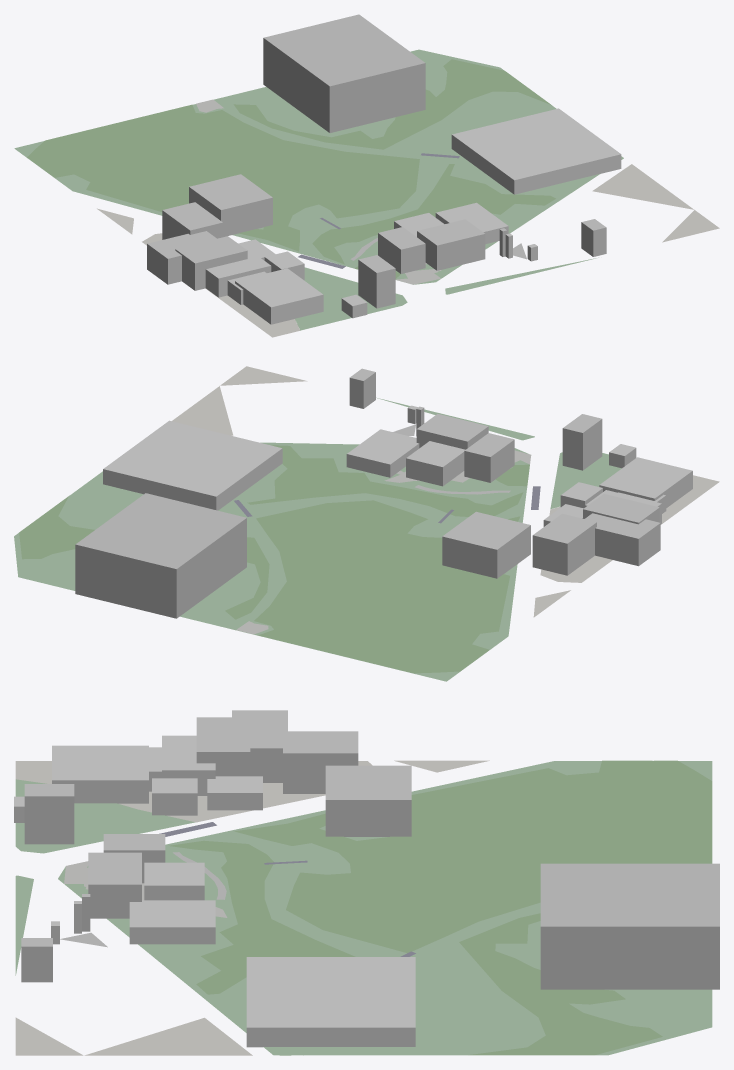
Rendered from 109_106_mid.glb.
3 renders of one model, top to bottom at view 1: azimuth 30°, elevation 25°; view 2: azimuth 150°, elevation 25°; view 3: azimuth 270°, elevation 25°, orthographic. The views are drawn at different scales.
Size of the model in its own units: 527 by 50.32 by 507.
